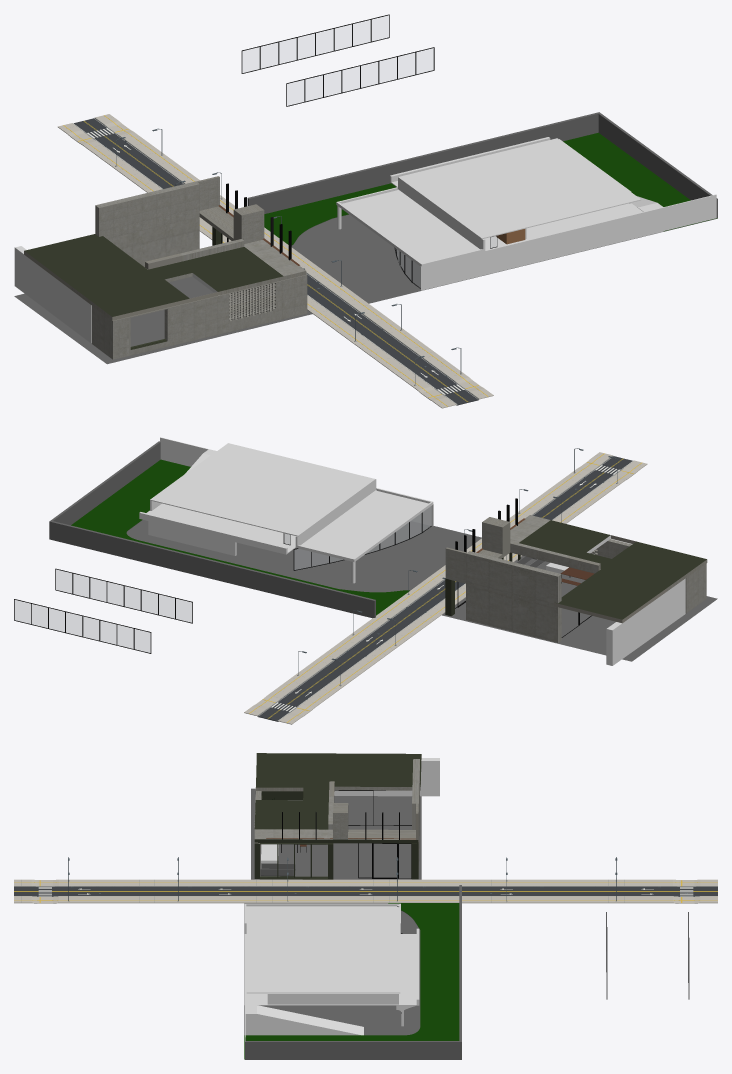
Rendered from galeria_web_teste.glb.
3 renders of one model, top to bottom at view 1: azimuth 30°, elevation 25°; view 2: azimuth 150°, elevation 25°; view 3: azimuth 270°, elevation 25°, orthographic. The views are drawn at different scales.
Visible parts, largest first — view 1: Plane, Plane.031, Cube.005, Cube.003, Calcadas.001, Cube, Cube.051, Cube.002, Cube.054, Asfalto.001, Plane.040, Cube.055 (+2 smaller); view 2: Plane, Plane.031, Cube.005, Cube.003, Calcadas.001, Cube, Cube.054, Asfalto.001, Plane.040, Cube.055, Cube.002, Cube.006 (+3 smaller); view 3: Plane, Plane.031, Cube.005, Calcadas.001, Plane.040, Asfalto.001, Cube.003, Cube.002, Cube.013, Guias.001, Cube.055, Sinalizacao.001 (+3 smaller).
Boxes of the visible parts, x1=… form: Plane: x1=247, y1=112, x2=717, y2=303; Plane.031: x1=24, y1=176, x2=306, y2=320; Cube.005: x1=398, y1=138, x2=641, y2=238; Cube.003: x1=336, y1=137, x2=643, y2=267; Calcadas.001: x1=58, y1=114, x2=493, y2=408; Cube: x1=241, y1=14, x2=434, y2=288; Cube.051: x1=91, y1=274, x2=307, y2=359; Cube.002: x1=420, y1=194, x2=716, y2=290; Cube.054: x1=95, y1=181, x2=199, y2=267; Asfalto.001: x1=74, y1=118, x2=478, y2=405; Plane.040: x1=14, y1=276, x2=312, y2=364; Cube.055: x1=14, y1=246, x2=91, y2=343; Plane: x1=49, y1=441, x2=481, y2=618; Plane.031: x1=445, y1=515, x2=707, y2=623; Cube.005: x1=150, y1=443, x2=375, y2=536; Cube.003: x1=139, y1=479, x2=433, y2=562; Calcadas.001: x1=244, y1=452, x2=647, y2=724; Cube: x1=14, y1=506, x2=431, y2=653; Cube.054: x1=466, y1=551, x2=561, y2=642; Asfalto.001: x1=257, y1=456, x2=632, y2=721; Plane.040: x1=442, y1=556, x2=717, y2=661; Cube.055: x1=606, y1=578, x2=685, y2=665; Cube.002: x1=160, y1=437, x2=433, y2=526; Cube.006: x1=148, y1=521, x2=236, y2=555; Plane: x1=244, y1=885, x2=461, y2=1059; Plane.031: x1=254, y1=753, x2=421, y2=843; Cube.005: x1=246, y1=921, x2=400, y2=993; Calcadas.001: x1=14, y1=879, x2=717, y2=903; Plane.040: x1=251, y1=788, x2=421, y2=879; Asfalto.001: x1=14, y1=886, x2=717, y2=896; Cube.003: x1=244, y1=903, x2=419, y2=1005; Cube.002: x1=245, y1=1005, x2=363, y2=1041; Cube.013: x1=267, y1=993, x2=398, y2=1004; Guias.001: x1=14, y1=886, x2=717, y2=896; Cube.055: x1=334, y1=758, x2=439, y2=796; Sinalizacao.001: x1=14, y1=887, x2=717, y2=896.
Bounding box in the file's own units: 164 × 19.71 × 180.
Materials: 58 (6 with a texture image).
